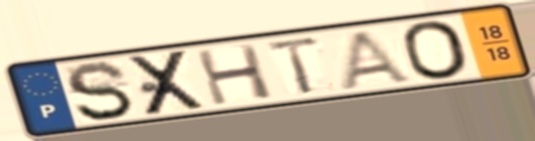A: (337, 28, 418, 91)
H: (192, 41, 277, 108)
O: (398, 18, 475, 81)
S: (62, 60, 138, 124)
T: (264, 34, 324, 97)
X: (126, 46, 211, 119)
